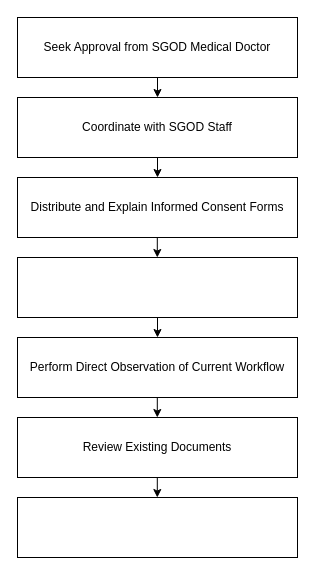
Image size: 315x575. Some labels were removed from this diagram. The shapes that lost their labels are listed below. From the top down, each one's centre as x and y in pixels, then its label:
At point (157, 287): "Conduct Interviews with Health Workers".
At point (157, 527): "Organize and Analyze".
